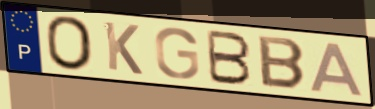A: (308, 40, 367, 99)
B: (256, 33, 308, 92), (205, 28, 254, 87)
G: (153, 26, 202, 81)
K: (102, 19, 145, 77)
O: (43, 14, 96, 72)
